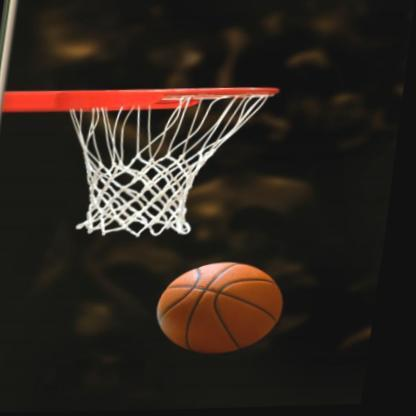basketball: (157, 260, 297, 358)
rim: (54, 84, 282, 238)
